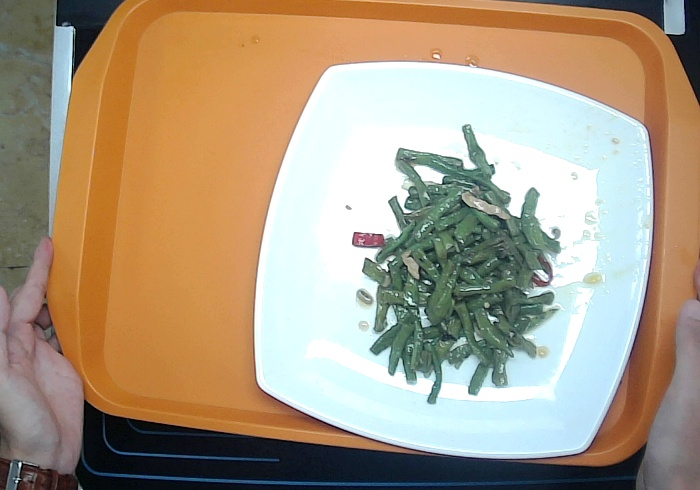ZNLD-Bai_Fang_Pan: (251, 57, 658, 462)
